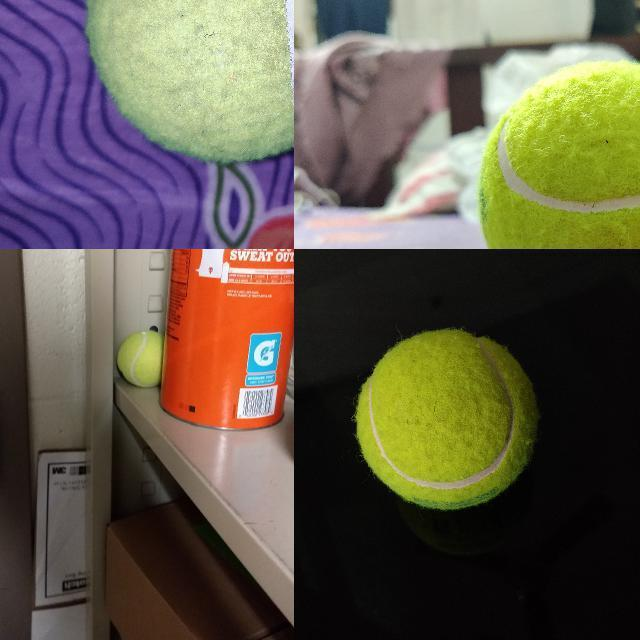tennis-ball: (85, 0, 293, 164), (354, 328, 538, 510), (477, 60, 639, 248), (116, 329, 160, 387)
